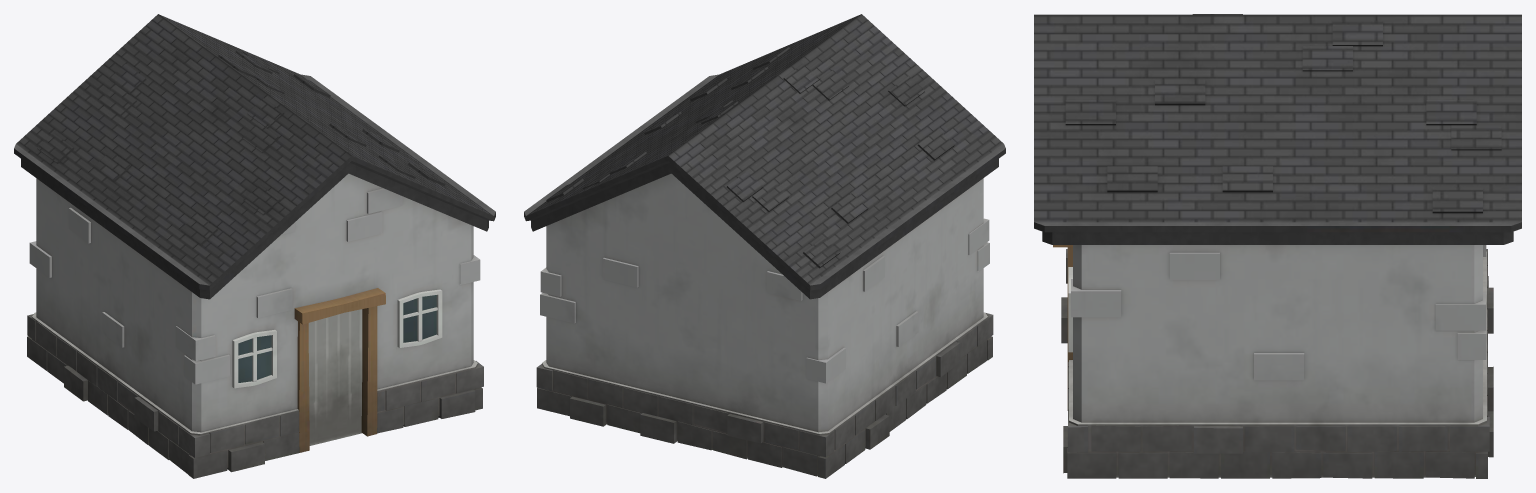
The model's file is building_1Story_GableRoof.glb.
3 renders of one model, left to right at view 1: azimuth 30°, elevation 25°; view 2: azimuth 150°, elevation 25°; view 3: azimuth 270°, elevation 25°, orthographic. The views are drawn at different scales.
Visible parts, largest first — view 1: 1Story_GableRoof_high; view 2: 1Story_GableRoof_high; view 3: 1Story_GableRoof_high.
Part boxes in pixels (x1,y1,x2,y2): 1Story_GableRoof_high: (14, 14, 495, 478); 1Story_GableRoof_high: (524, 14, 1005, 478); 1Story_GableRoof_high: (1034, 14, 1521, 478).
Bounding box in the file's own units: 2.11 × 2.02 × 2.38.
Materials: 2 (2 with a texture image).
